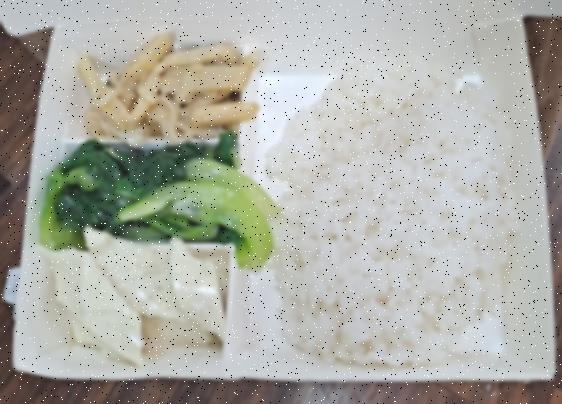box: (4, 13, 558, 387)
side dish: (38, 140, 271, 268), (36, 234, 231, 360), (72, 38, 256, 141)
white rice: (260, 56, 518, 368)
